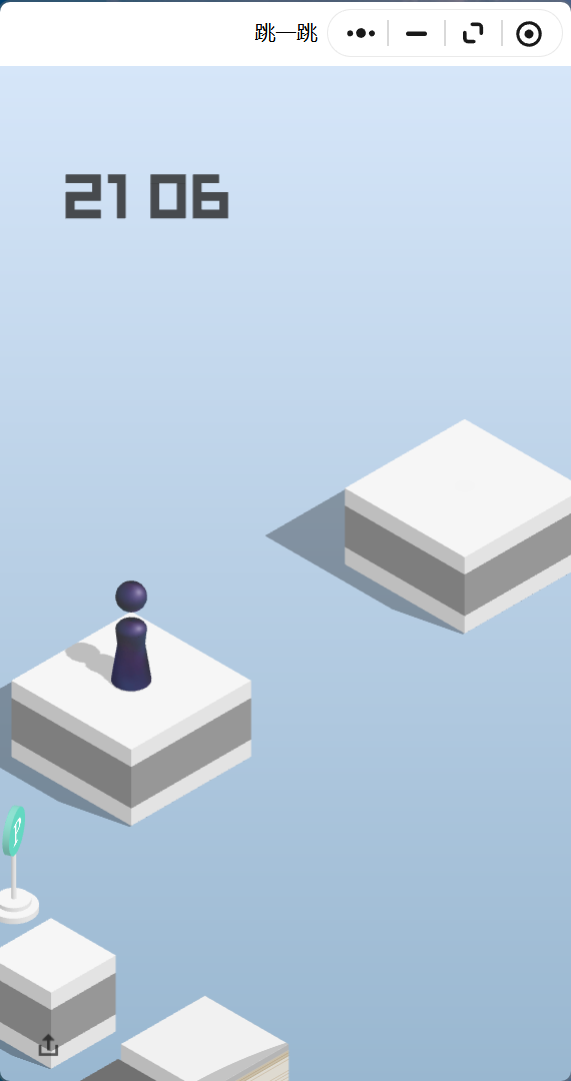piece: (115, 581, 146, 690)
target: (346, 419, 571, 557)
